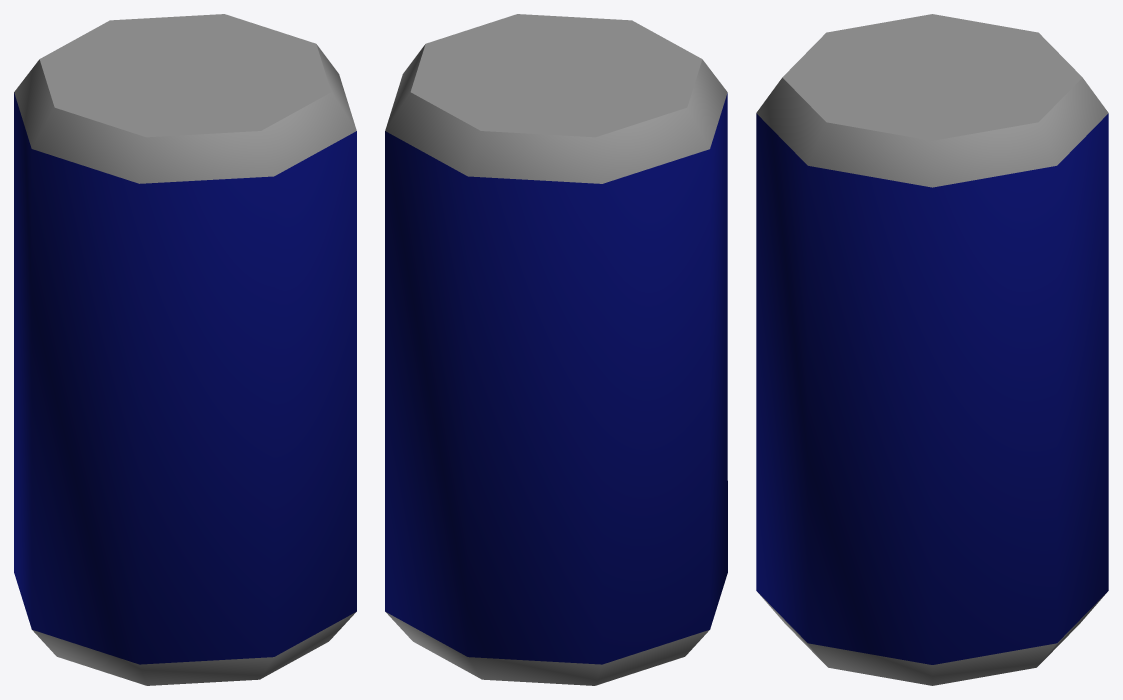
The model's file is Pop Can Pepsi.FBX.
The picture shows the model from 3 angles, left to right: view 1: azimuth 30°, elevation 25°; view 2: azimuth 150°, elevation 25°; view 3: azimuth 270°, elevation 25°; orthographic projection.
Visible parts, largest first — view 1: Pop Can Pepsi; view 2: Pop Can Pepsi; view 3: Pop Can Pepsi.
Boxes of the visible parts, x1,y1,x2,y2 form: Pop Can Pepsi: (14, 14, 356, 685); Pop Can Pepsi: (385, 14, 727, 685); Pop Can Pepsi: (756, 14, 1108, 685).
Bounding box in the file's own units: 23.55 × 40.25 × 23.55.
